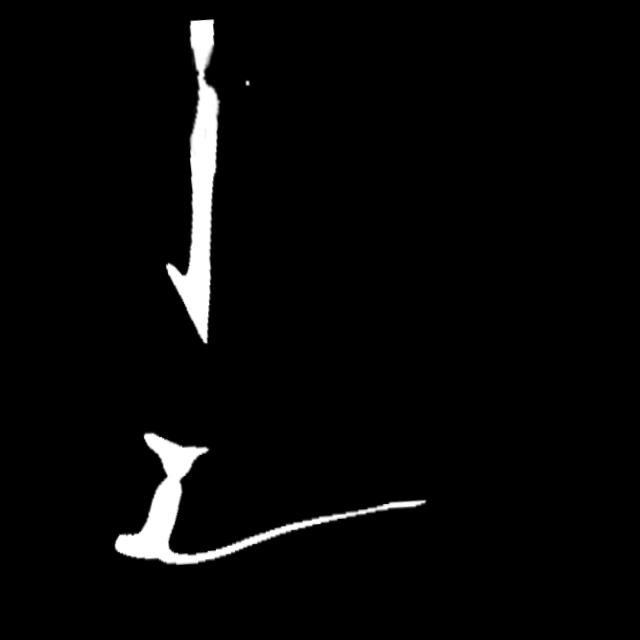sl: (185, 38, 226, 117)
